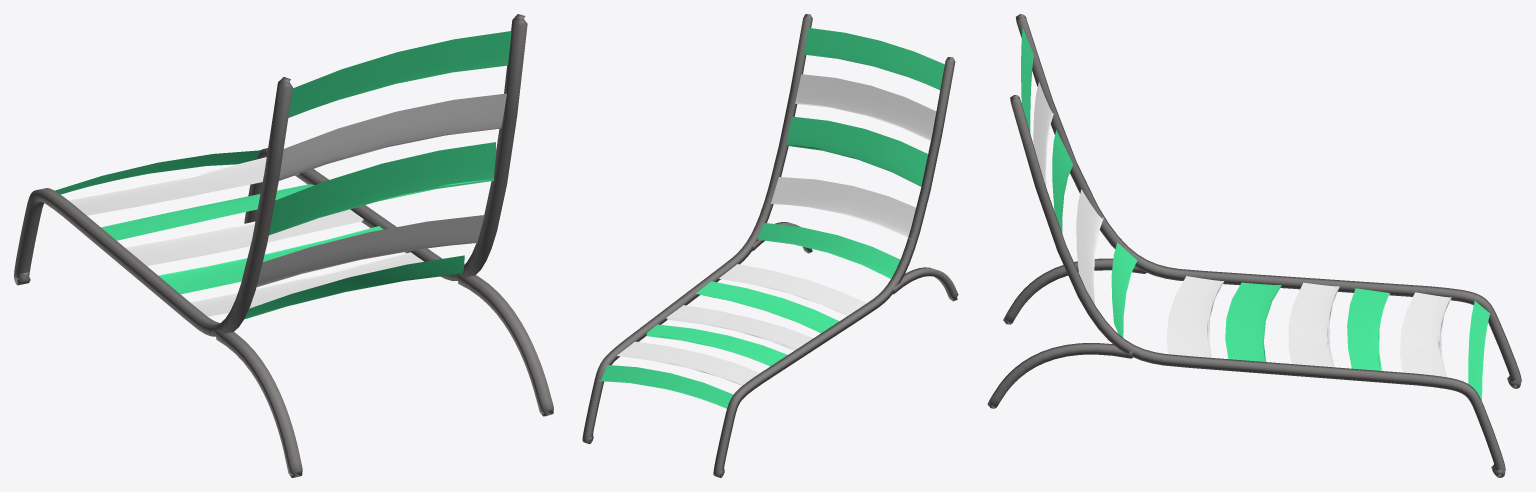
The model's file is shimanoisu.obj.
3 views of the same model, side by side, from view 1: azimuth 30°, elevation 25°; view 2: azimuth 150°, elevation 25°; view 3: azimuth 270°, elevation 25° (orthographic). The views are drawn at different scales.
Visible parts, largest first — view 1: s.0074, n.0091, n.0088, n.0102, s.0076, n.0087, n.0090, n.0084, n.0082, n.0094, n.0080, s.0075 (+5 smaller); view 2: s.0074, s.0076, n.0091, n.0088, n.0087, n.0102, n.0090, n.0084, n.0092, n.0095, n.0094, n.0082 (+4 smaller); view 3: s.0076, s.0074, n.0084, n.0092, n.0094, n.0082, n.0080, s.0075, n.0087, n.0095, n.0090, s.0073 (+5 smaller).
Part boxes in pixels (x1,y1,x2,y2): s.0074: [14, 77, 292, 336]; n.0091: [269, 142, 496, 235]; n.0088: [279, 93, 506, 180]; n.0102: [288, 31, 511, 117]; s.0076: [244, 14, 527, 280]; n.0087: [256, 215, 484, 287]; n.0090: [244, 255, 464, 319]; n.0084: [189, 252, 423, 316]; n.0082: [124, 220, 362, 262]; n.0094: [101, 184, 313, 240]; n.0080: [68, 174, 298, 213]; s.0075: [457, 274, 553, 416]; s.0074: [713, 57, 955, 477]; s.0076: [582, 14, 812, 443]; n.0091: [786, 116, 927, 186]; n.0088: [795, 74, 936, 141]; n.0087: [771, 177, 915, 238]; n.0102: [803, 28, 944, 89]; n.0090: [757, 223, 900, 278]; n.0084: [719, 264, 866, 315]; n.0092: [695, 281, 839, 332]; n.0095: [598, 365, 733, 408]; n.0094: [646, 324, 787, 366]; n.0082: [667, 313, 813, 349]; s.0076: [1010, 95, 1505, 477]; s.0074: [1016, 14, 1521, 388]; n.0084: [1166, 276, 1224, 357]; n.0092: [1225, 282, 1281, 361]; n.0094: [1347, 288, 1389, 370]; n.0082: [1289, 282, 1339, 366]; n.0080: [1400, 292, 1451, 372]; s.0075: [987, 343, 1132, 408]; n.0087: [1076, 189, 1103, 304]; n.0095: [1468, 301, 1489, 403]; n.0090: [1111, 242, 1137, 337]; s.0073: [1003, 258, 1146, 324].
Size of the model in its own units: 0.626 by 0.9875 by 1.31.
